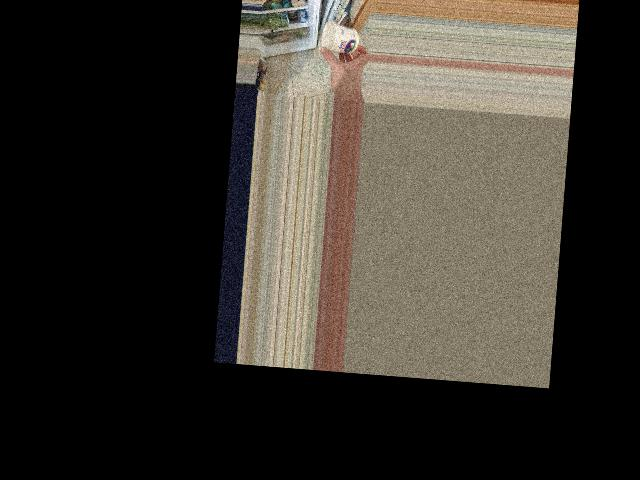cotage: (319, 20, 361, 59)
